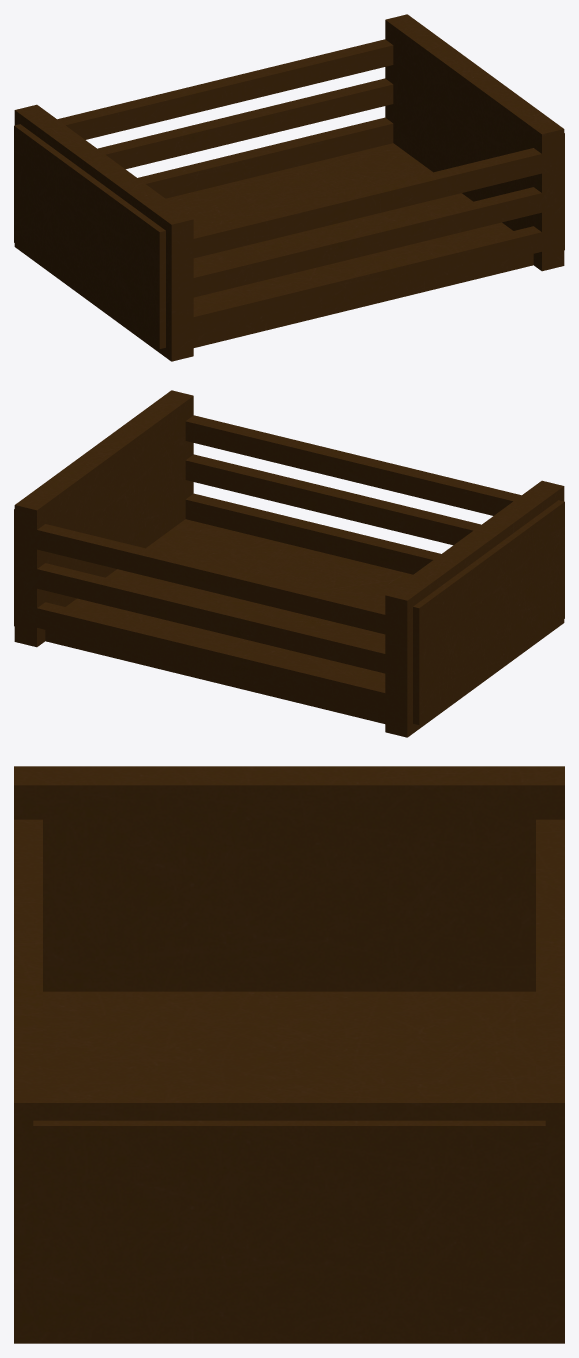
The model's file is Small Crate.fbx.
3 views of the same model, one above another, from view 1: azimuth 30°, elevation 25°; view 2: azimuth 150°, elevation 25°; view 3: azimuth 270°, elevation 25° (orthographic). The views are drawn at different scales.
Visible parts, largest first — view 1: Small Crate; view 2: Small Crate; view 3: Small Crate.
Part boxes in pixels (left/top/right/bottom): Small Crate: left=14, top=14, right=564, bottom=361; Small Crate: left=14, top=390, right=564, bottom=737; Small Crate: left=14, top=766, right=564, bottom=1343.
Size of the model in its own units: 26.32 by 8.5 by 17.63.
Materials: 1 (1 with a texture image).
